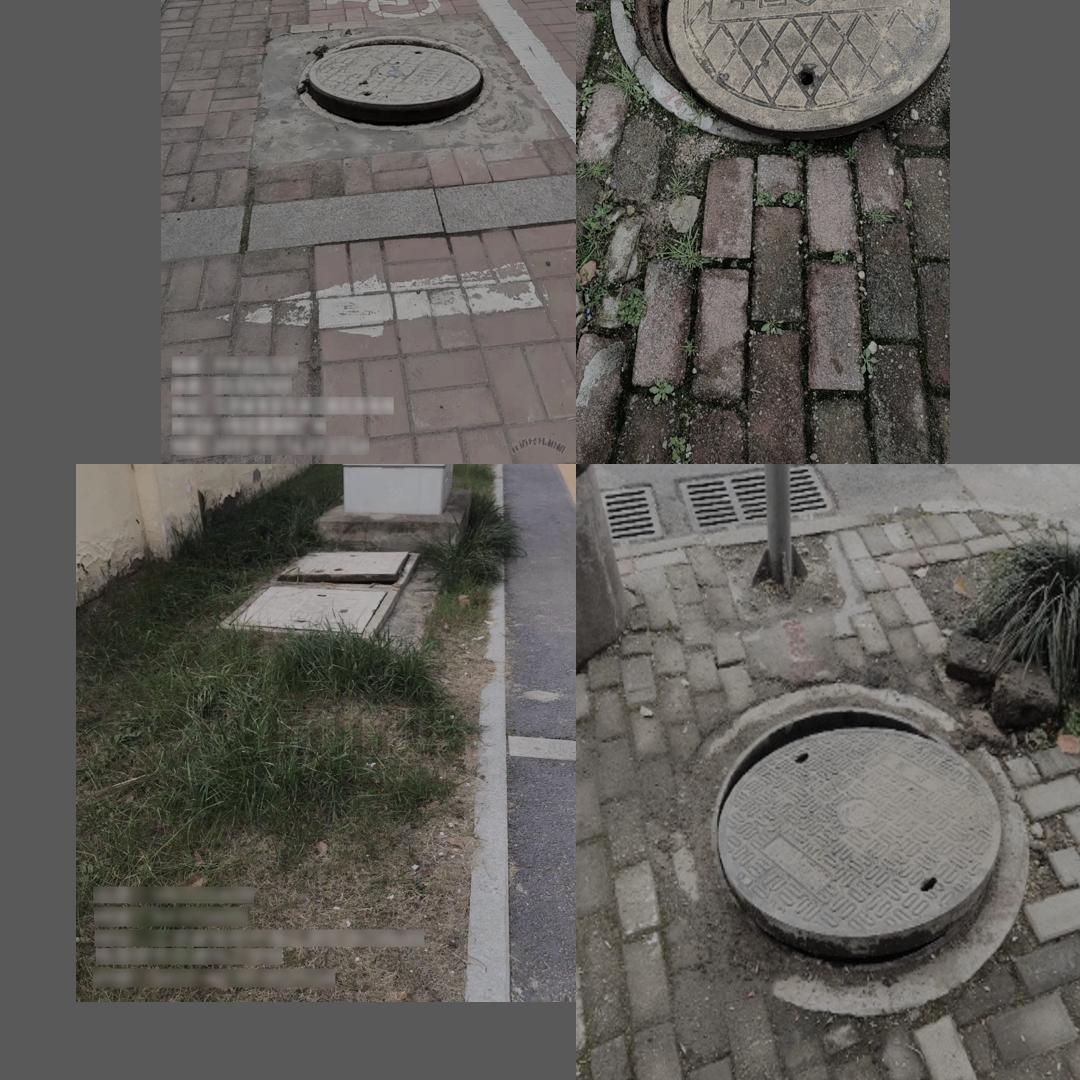good: (216, 582, 400, 640)
uncovered: (685, 683, 1029, 1015), (609, 0, 950, 141), (298, 35, 491, 134), (271, 549, 419, 586)
